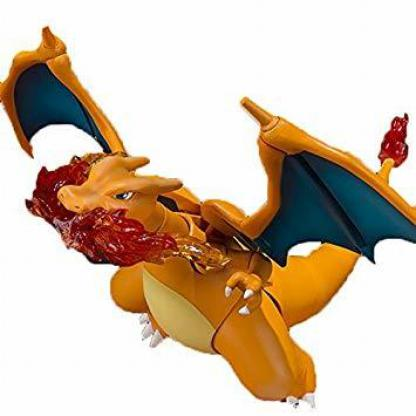Charizard: (13, 36, 416, 397)
